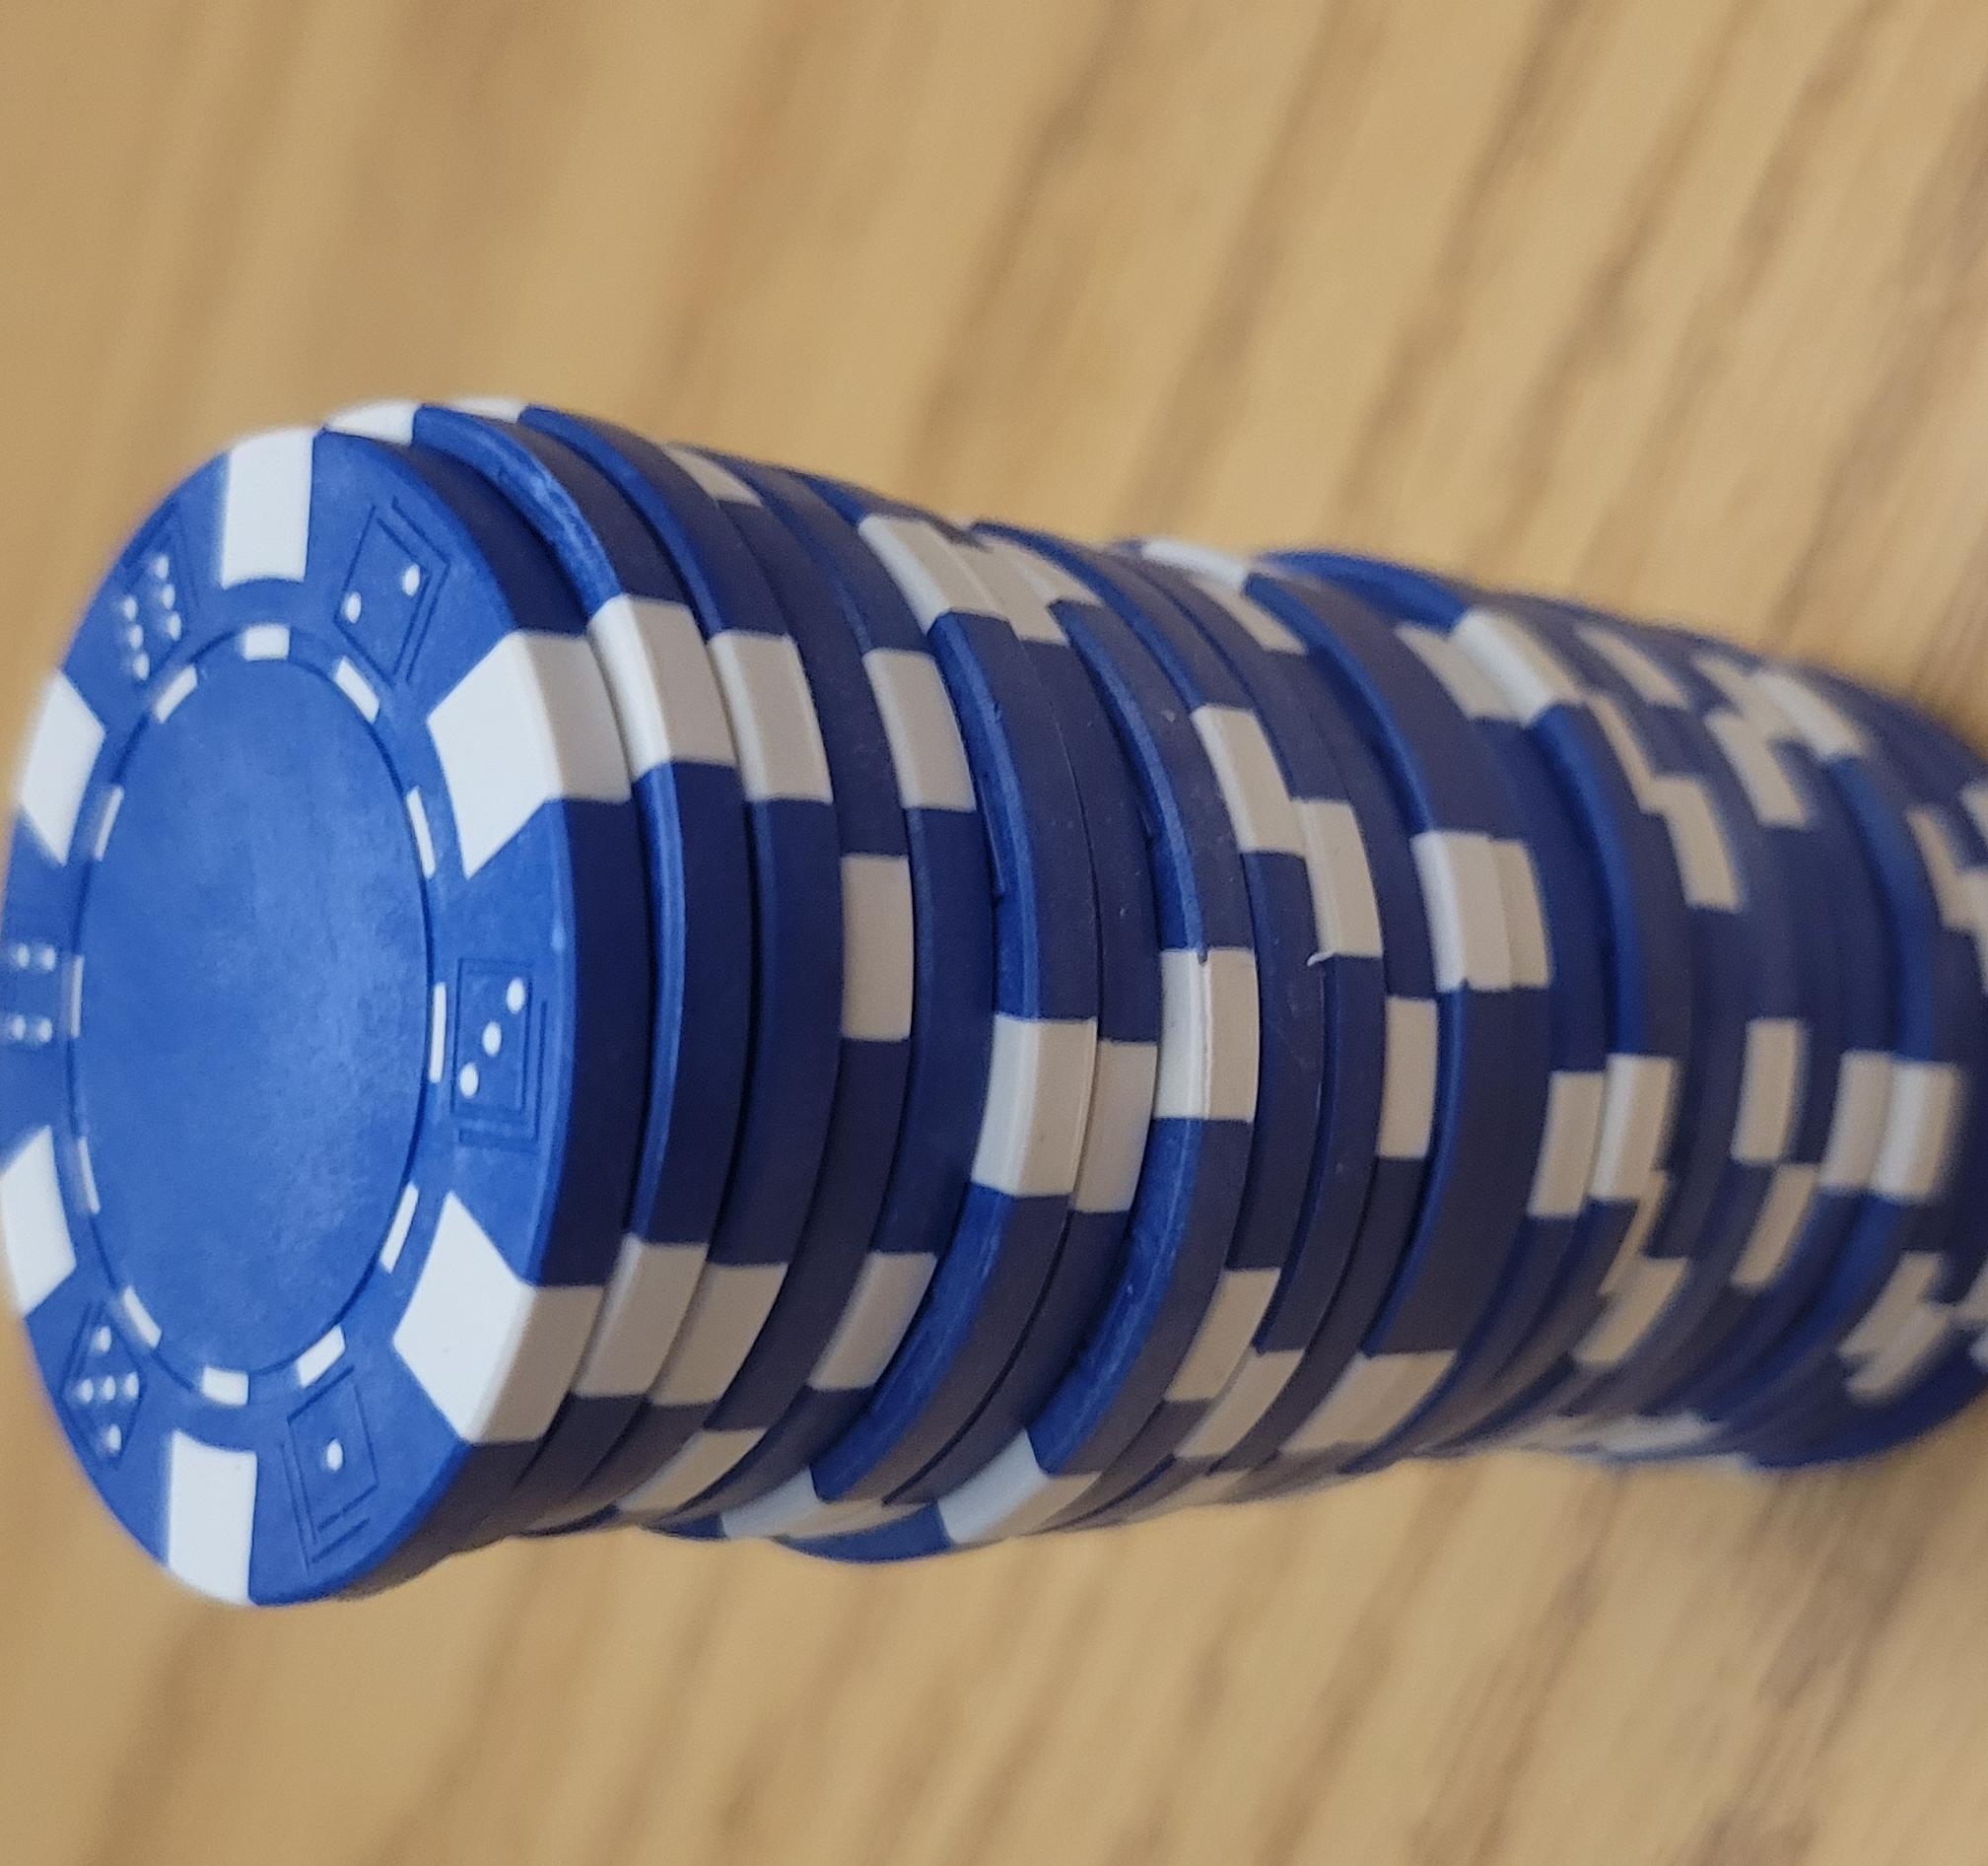Chip: (2, 184, 1266, 1866)
